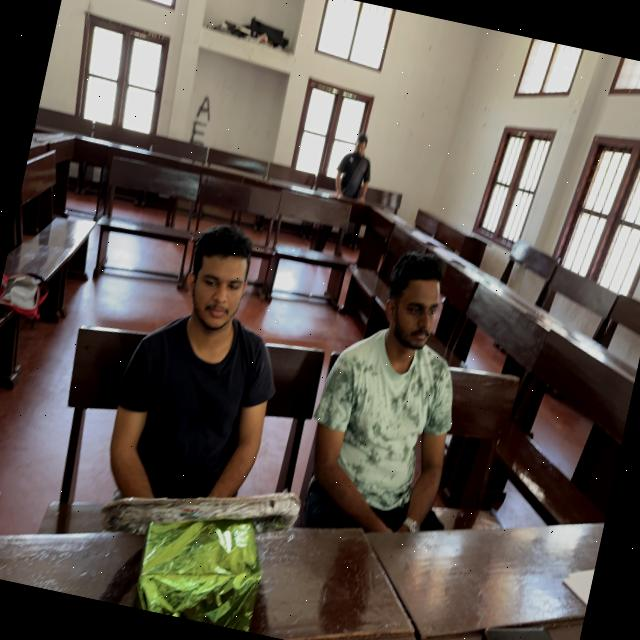Helmet: (91, 304, 290, 540), (290, 326, 472, 568)
